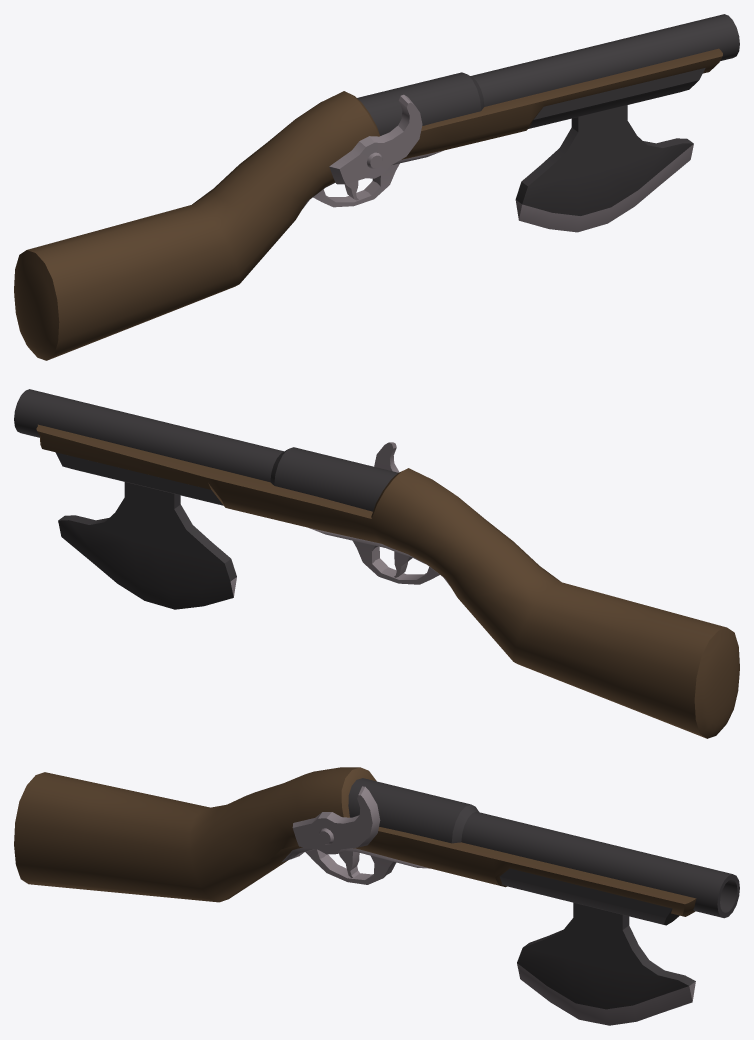
The model's file is quaternius-pirate-kit-weapon-axerifle.gltf.
3 views of the same model, one above another, from view 1: azimuth 30°, elevation 25°; view 2: azimuth 150°, elevation 25°; view 3: azimuth 330°, elevation 25° (orthographic).
Visible parts, largest first — view 1: Weapon_AxeRifle; view 2: Weapon_AxeRifle; view 3: Weapon_AxeRifle.
Boxes of the visible parts, <box> form: Weapon_AxeRifle: <box>14,14,739,360</box>; Weapon_AxeRifle: <box>14,389,739,738</box>; Weapon_AxeRifle: <box>14,767,739,1025</box>.
Size of the model in its own units: 2.32 by 0.6328 by 0.2822.
1 material, 1 textured.
